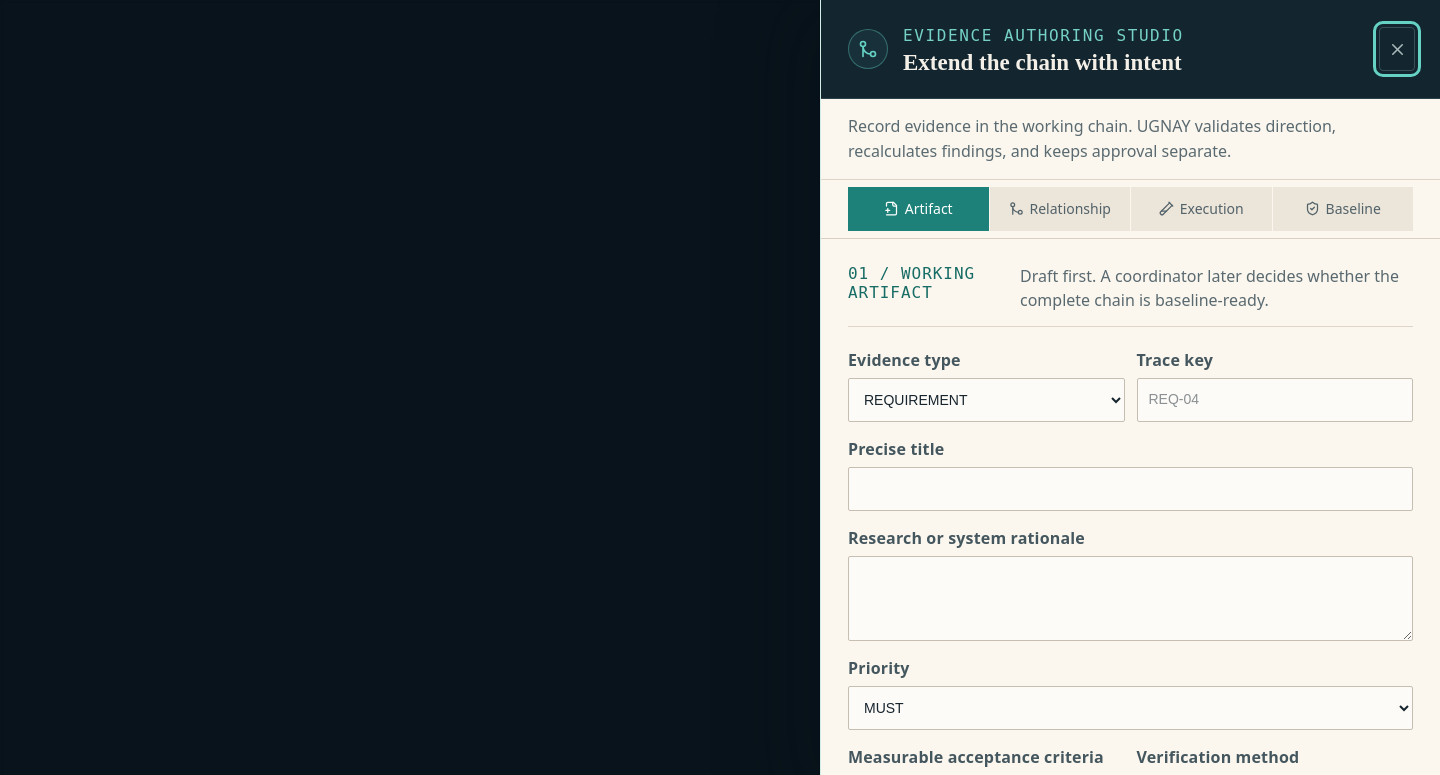
Test case: evidence authoring studio › lets a coordinator submit a reasoned baseline action and waits for server confirmation
The image size is (1440, 775).
Expected: the text "01 / WORKING ARTIFACT" is shown, [848,264,975,302]
Click the tab "Baseline" at [1343, 209], box [1272,187,1413,231]
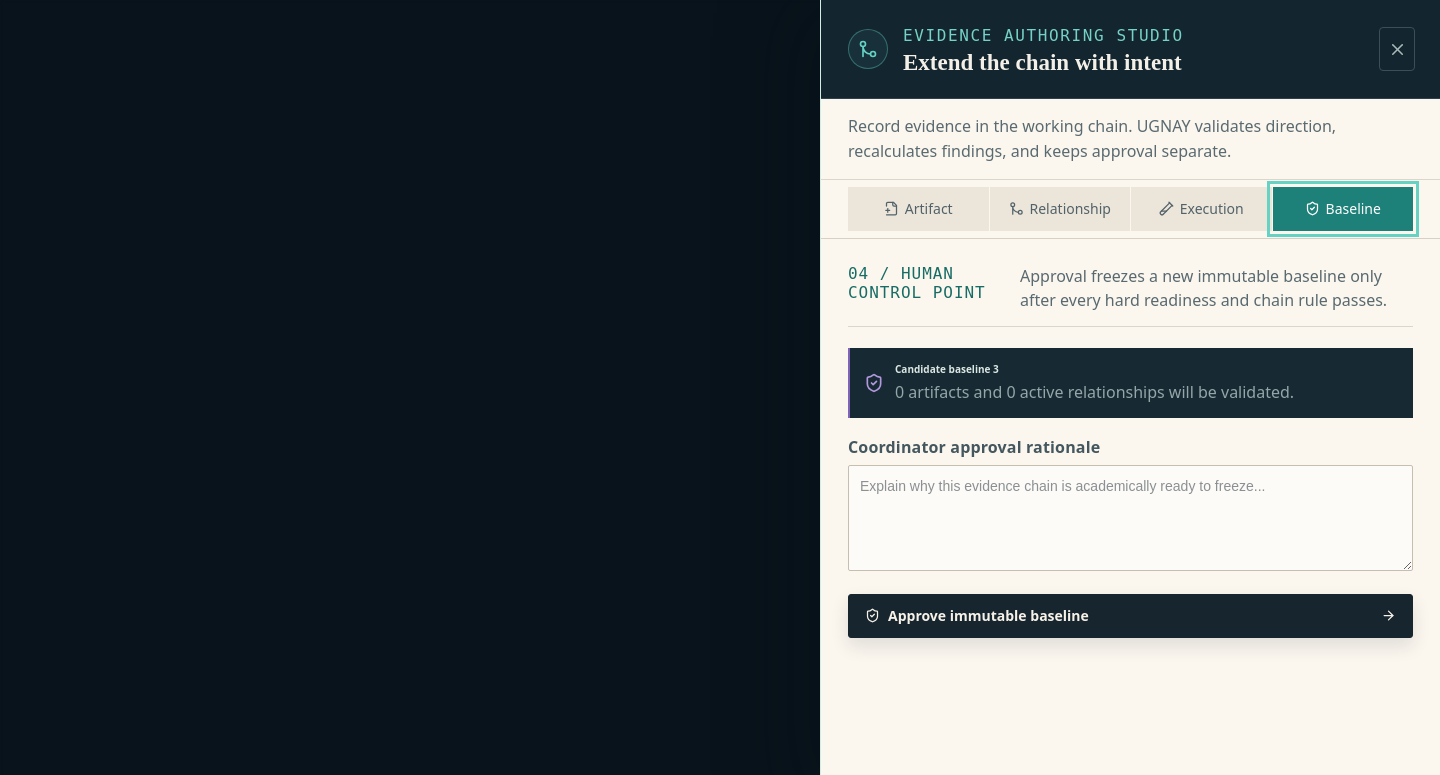
Type "The evidence chain meets every hard readiness and relationship rule." into the text box labelled "Coordinator approval rationale" at [1130, 518], box [848,465,1413,571]
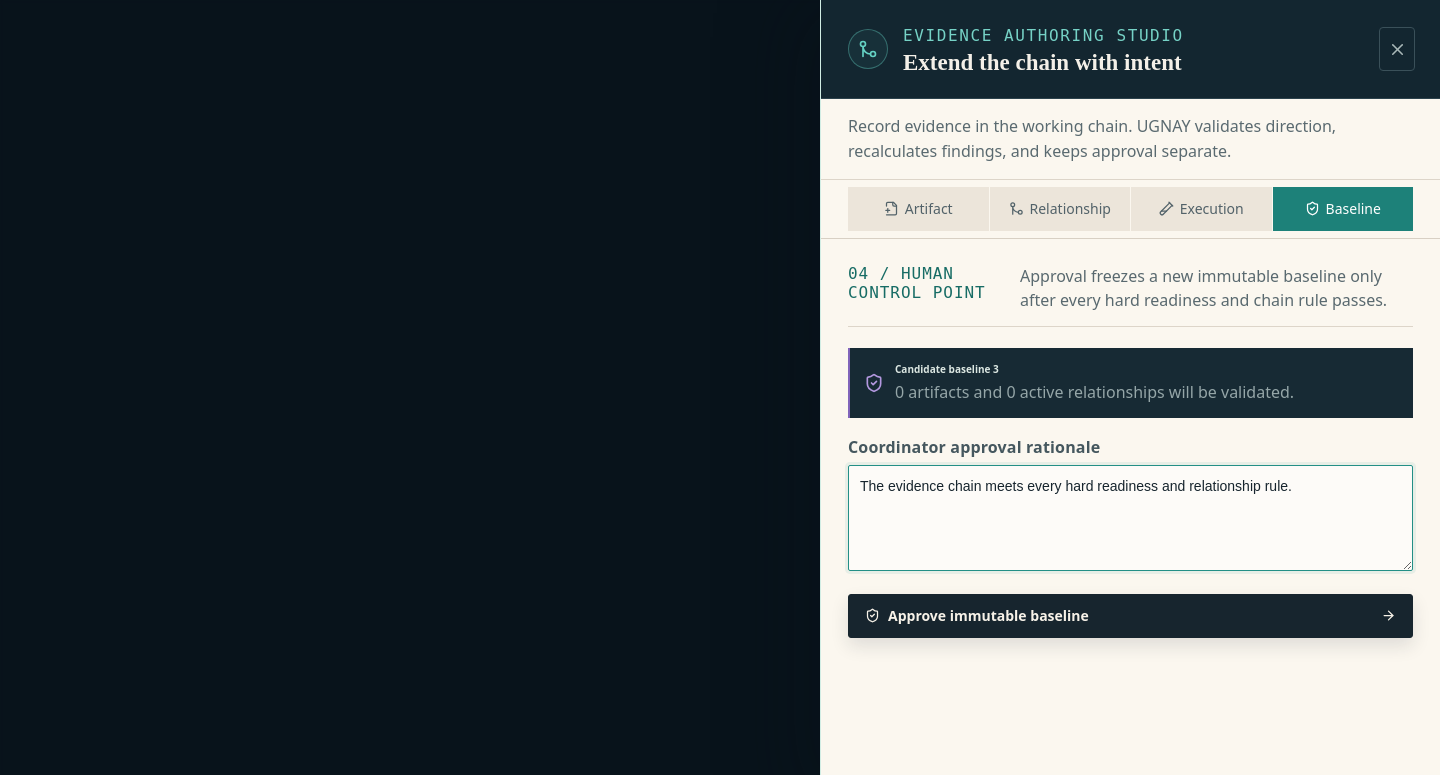
Click the button "Approve immutable baseline" at [988, 616], box [848,594,1413,638]
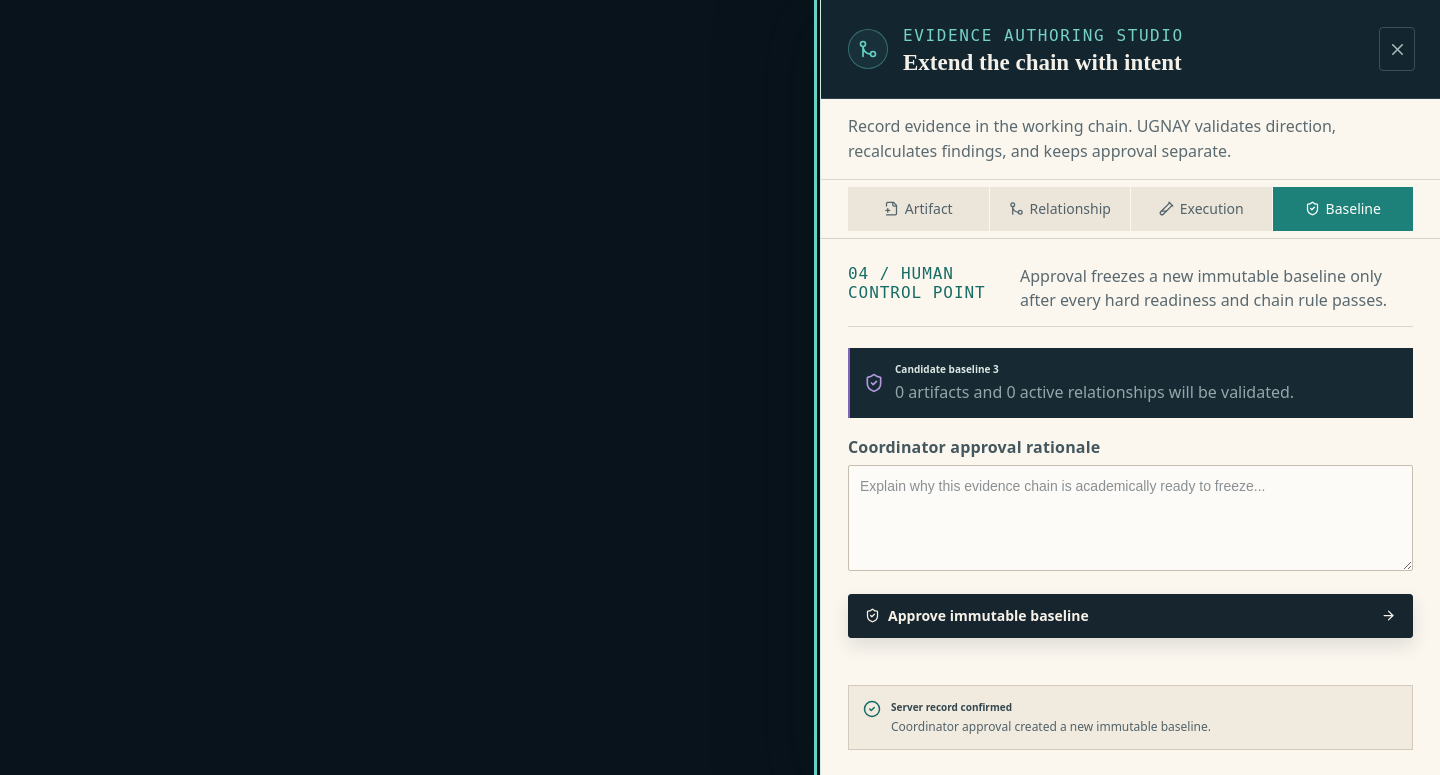
Expected: the text "Server record confirmed" is shown, [891,700,1012,714]
